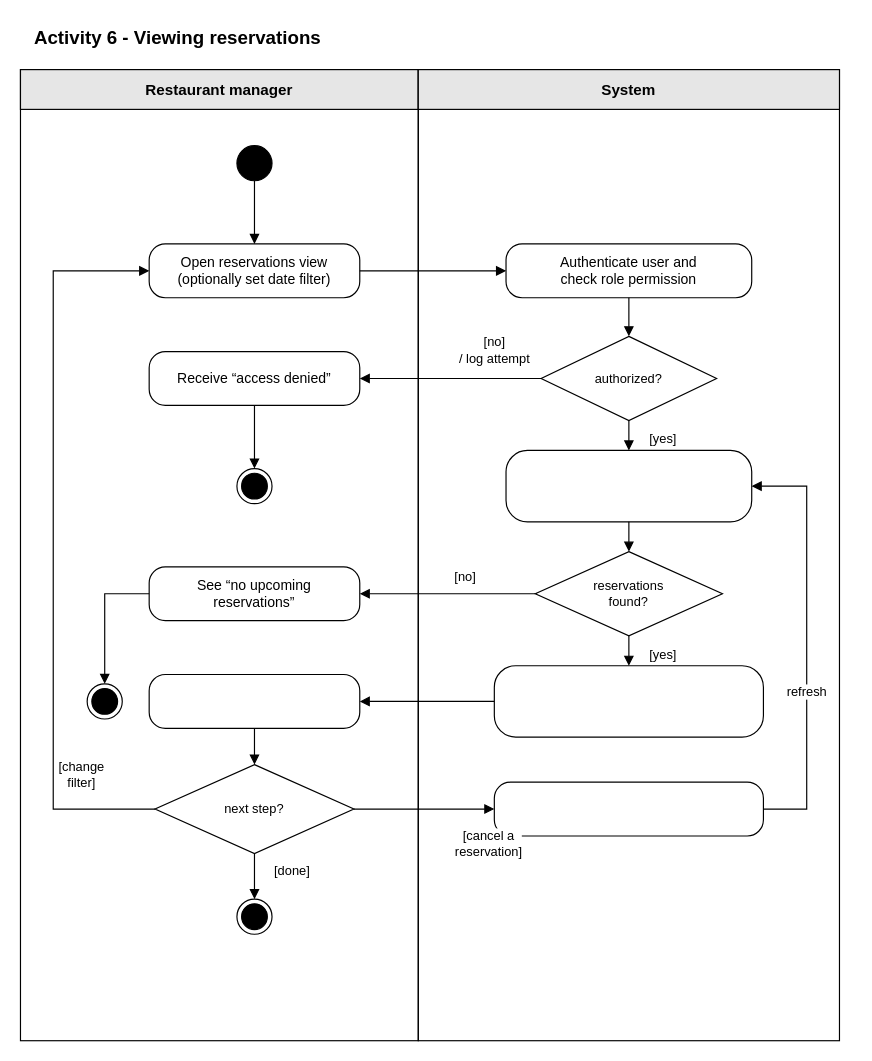
Some shapes in this 872 by 1061 pixel diagram are drawn without their labels. Here are the shapes that lost their labels. From the top down, the centre of each, then its label:
the point at 628,485: Load upcoming reservations (CONFIRMED, from now, matching filter)
the point at 254,700: Review reservations
the point at 628,701: Display list sorted by date/time: date, time, table, party size, contact
the point at 628,808: Cancel reservation (CANCELLED), release table, notify customer
